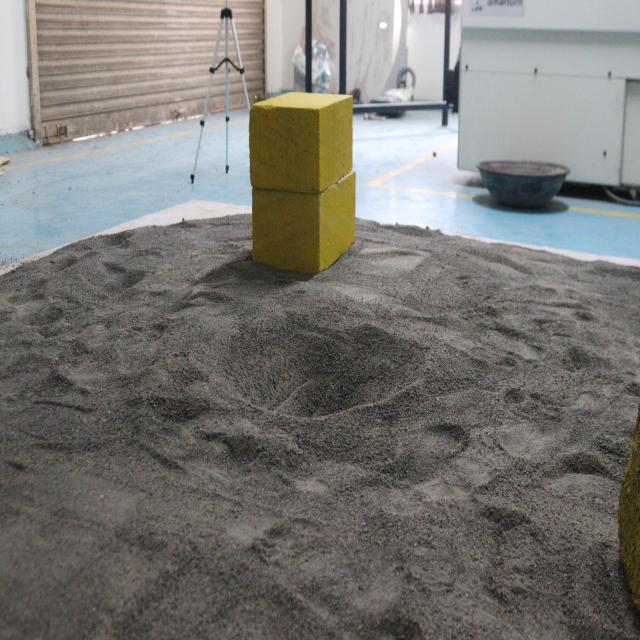box: (247, 84, 361, 280)
crater: (197, 296, 443, 439)
